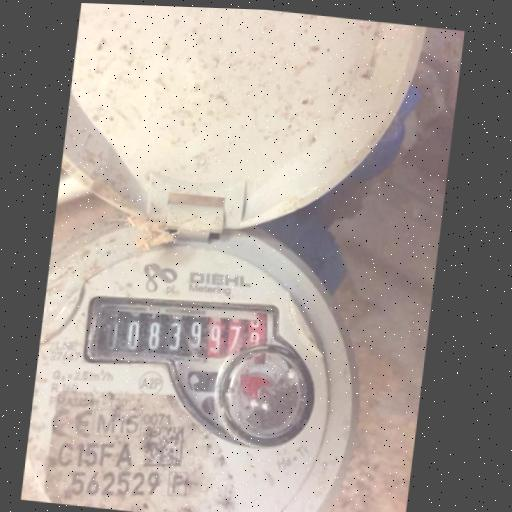0: (96, 307, 126, 352), (119, 309, 149, 354)
3: (164, 312, 192, 356)
7: (224, 317, 252, 360)
8: (141, 310, 171, 355), (244, 318, 269, 351)
9: (184, 314, 212, 357), (204, 315, 232, 358)
border_water_meter_number: (77, 284, 285, 383)
